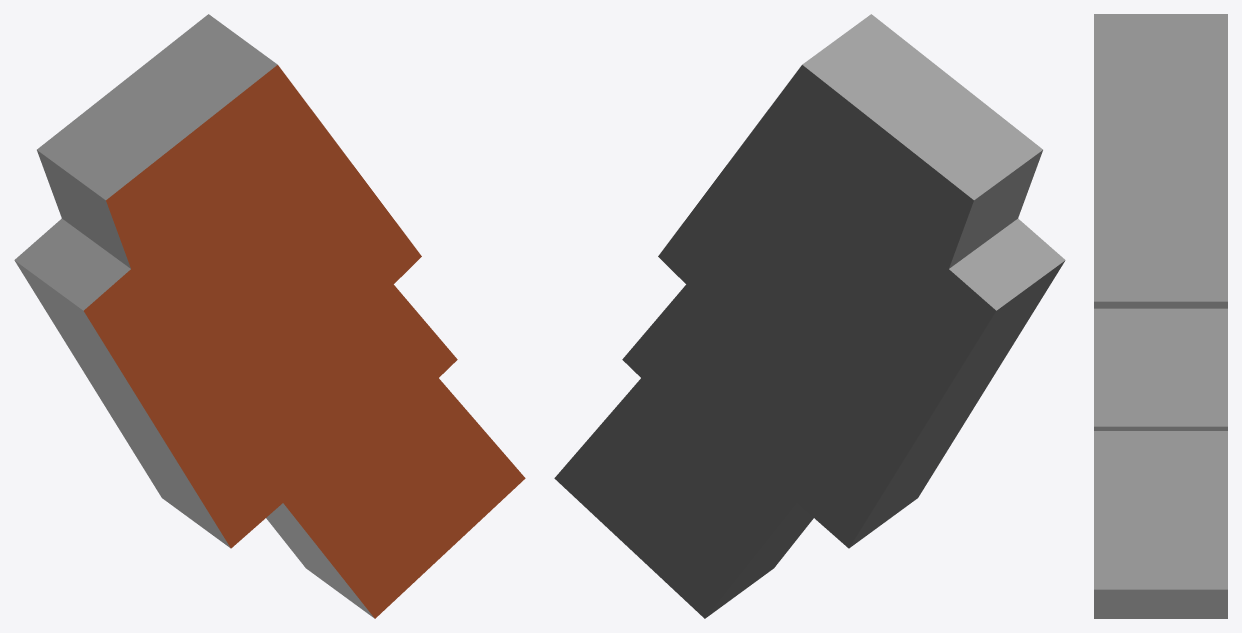
File: construction_6495_assumed_A_Casa_h6m.obj
3 renders of one model, left to right at view 1: azimuth 30°, elevation 25°; view 2: azimuth 150°, elevation 25°; view 3: azimuth 270°, elevation 25°, orthographic. The views are drawn at different scales.
Visible parts, largest first — view 1: construction_6495_assumed_A_Casa; view 2: construction_6495_assumed_A_Casa; view 3: construction_6495_assumed_A_Casa.
Boxes of the visible parts, <box> form: construction_6495_assumed_A_Casa: <box>14,14,525,618</box>; construction_6495_assumed_A_Casa: <box>554,14,1065,618</box>; construction_6495_assumed_A_Casa: <box>1094,14,1227,618</box>.
Size of the model in its own units: 22.13 by 27.64 by 6.
